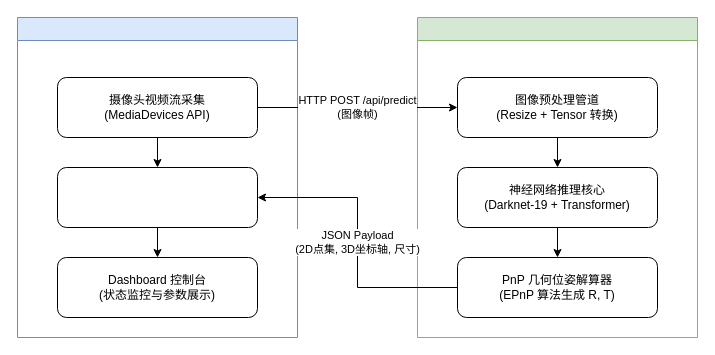
Some shapes in this 715 by 355 pixel diagram are drawn without their labels. Each missing label, with the box of its shape:
前端展示与交互层 (Vue.js 3): (16, 16, 298, 338)
双层 Canvas 渲染引擎 (底层视频 + 顶层 3D 投影): (56, 166, 258, 228)
后端异步推理引擎 (FastAPI): (416, 16, 698, 338)
